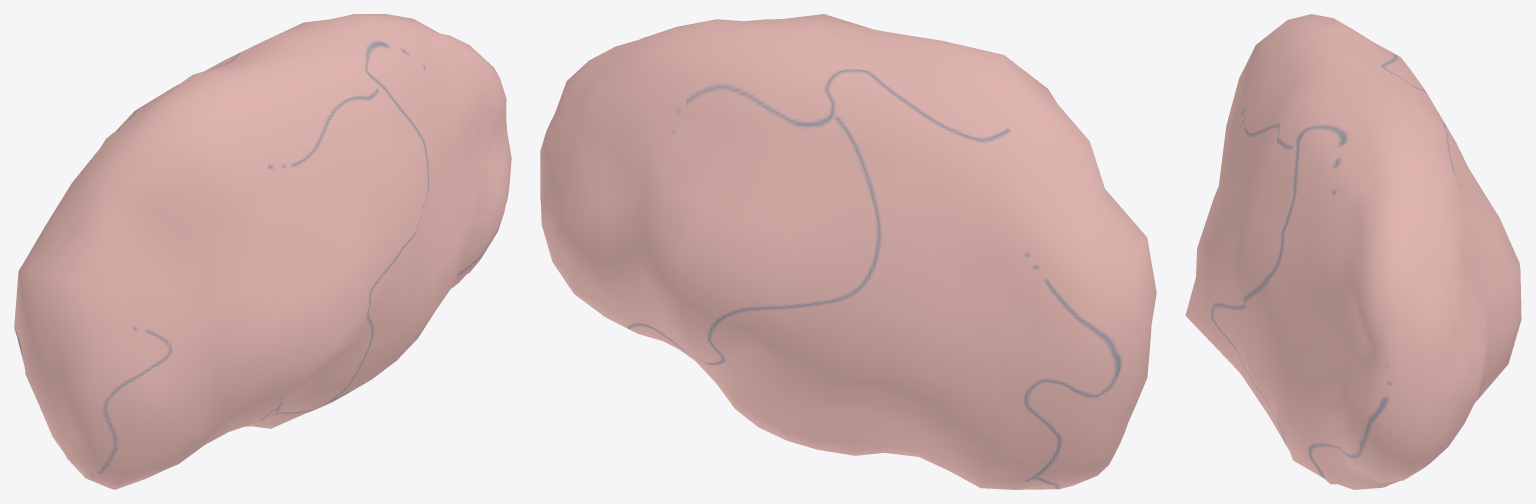
Rendered from Onecloudfortest.glb.
3 views of the same model, side by side, from view 1: azimuth 30°, elevation 25°; view 2: azimuth 150°, elevation 25°; view 3: azimuth 270°, elevation 25° (orthographic). The views are drawn at different scales.
Visible parts, largest first — view 1: Retopo_Cube.008; view 2: Retopo_Cube.008; view 3: Retopo_Cube.008.
Boxes of the visible parts, x1,y1,x2,y2 form: Retopo_Cube.008: [14, 14, 511, 489]; Retopo_Cube.008: [540, 14, 1156, 489]; Retopo_Cube.008: [1185, 14, 1521, 489].
Size of the model in its own units: 0.8217 by 0.5871 by 0.4298.
Materials: 1 (1 with a texture image).
